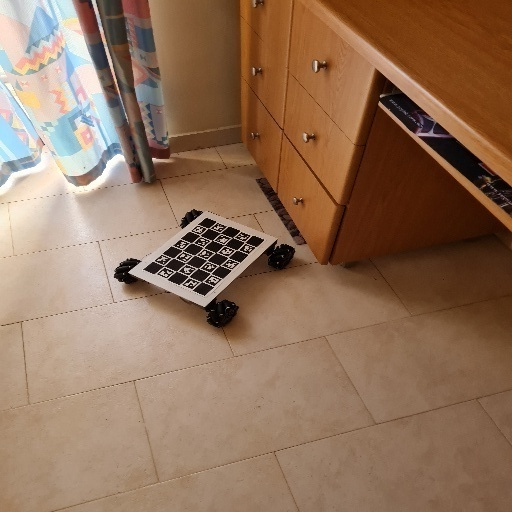Omniwheel: (115, 209, 299, 329)
